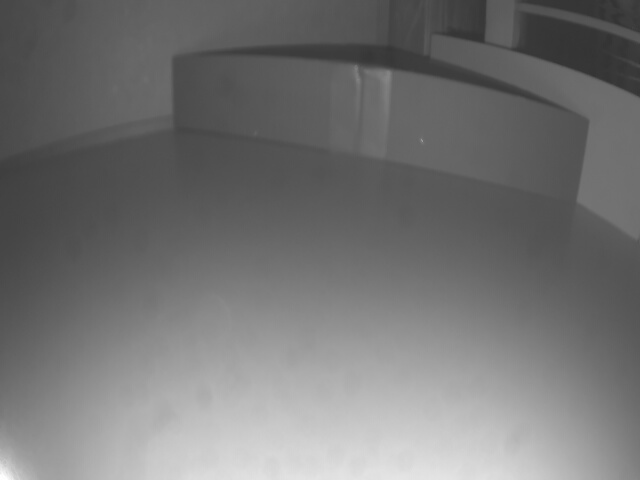Point: (167, 51, 591, 206)
